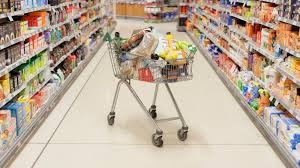with_basket: (106, 27, 198, 145)
